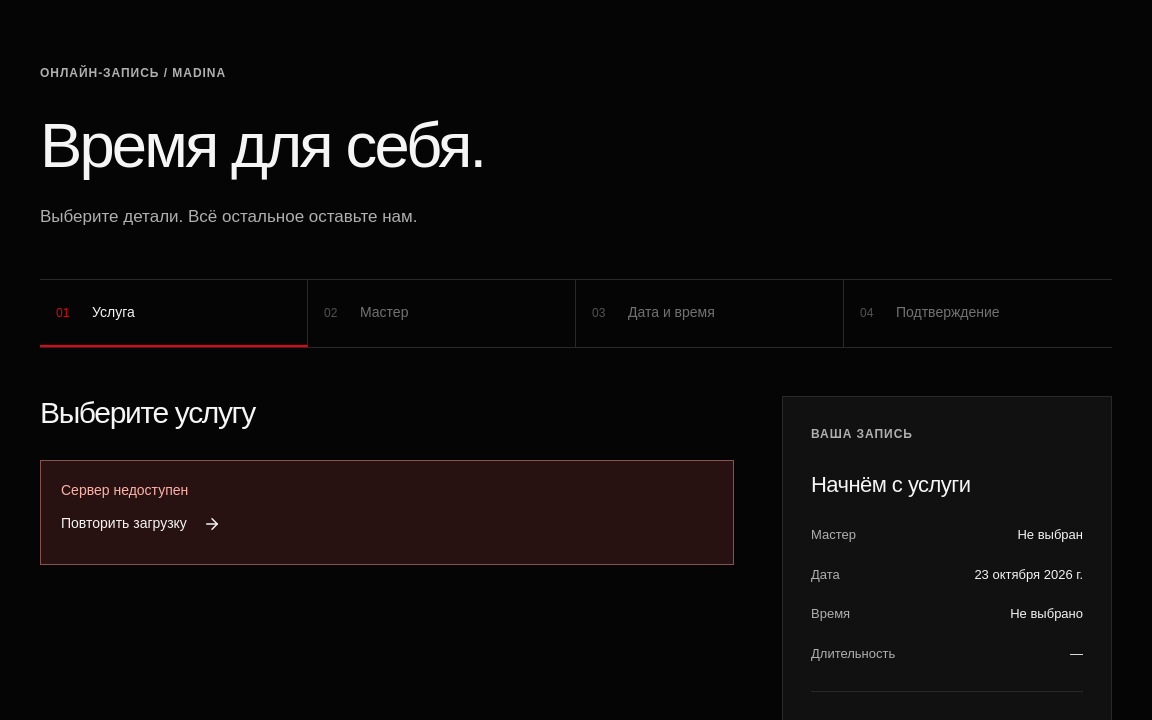
Test case: Book page: choosing a service and master › shows an error and lets the user retry when services fail to load
Expected: the message shows "Сервер недоступен", [61, 482, 188, 498]
Click the button "Повторить загрузку" at (141, 524), box [61, 502, 221, 546]
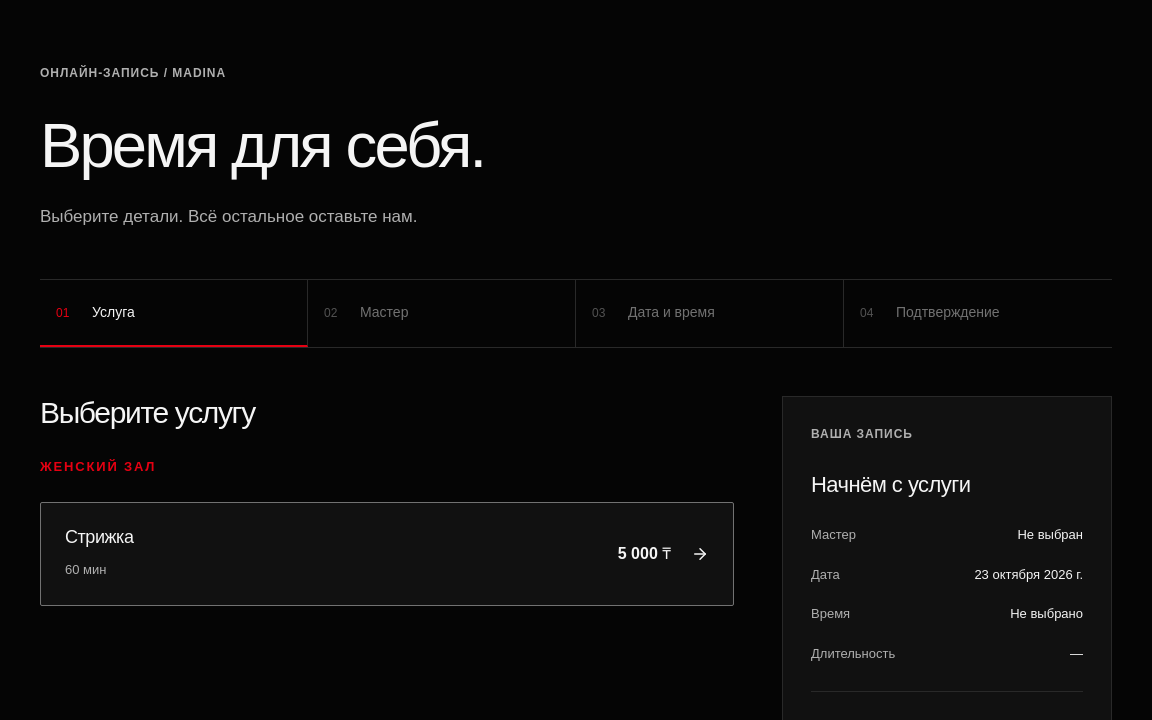
Expected: the button "Стрижка 60 мин 5 000 ₸" is shown, [40, 502, 734, 606]
Expected: the message "Сервер недоступен Повторить загрузку" is gone
